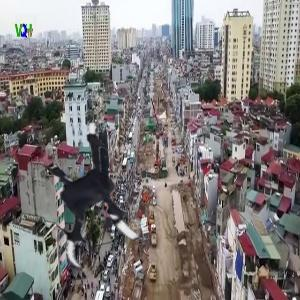drone: (24, 123, 177, 276)
